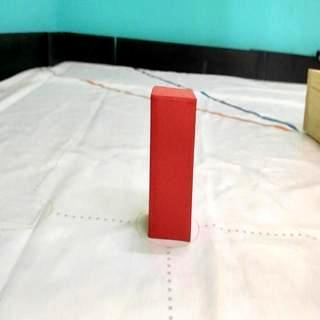redbox: (148, 84, 196, 242)
